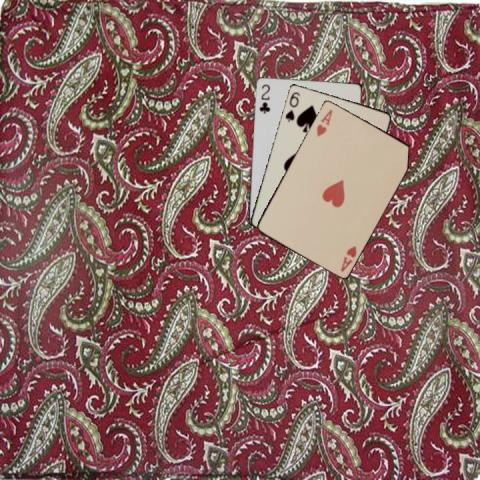2c: (256, 81, 271, 115)
6s: (282, 89, 301, 123)
Ah: (313, 106, 334, 137), (337, 243, 358, 272)
